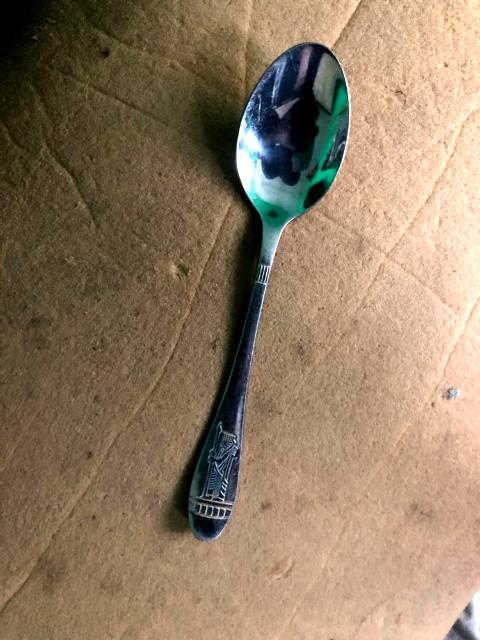Spoon: (189, 43, 349, 540)
